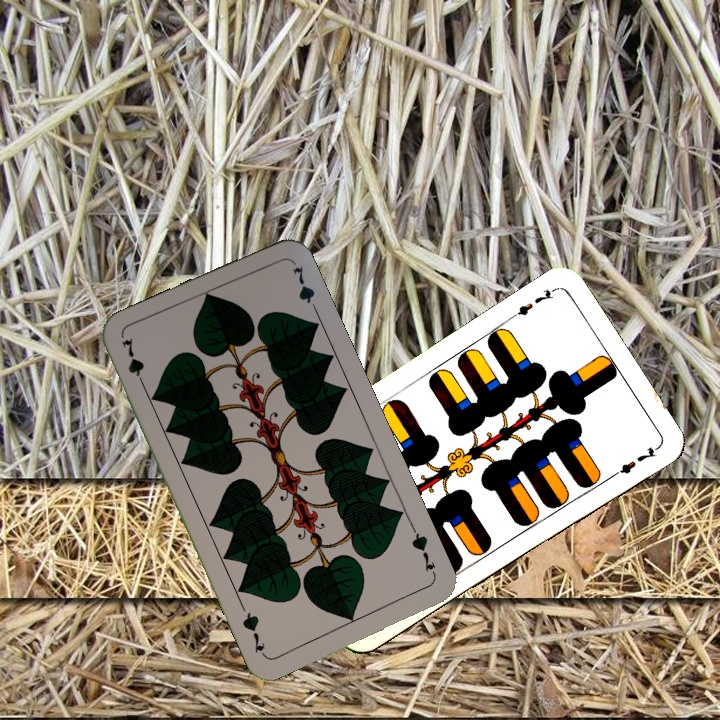E7: (506, 284, 559, 322)
G7: (117, 334, 149, 392), (407, 524, 439, 580)
